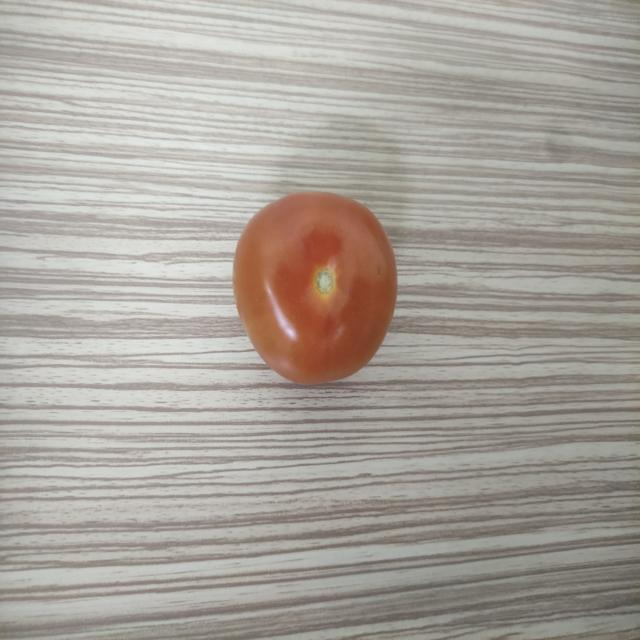sari: (227, 186, 419, 395)
